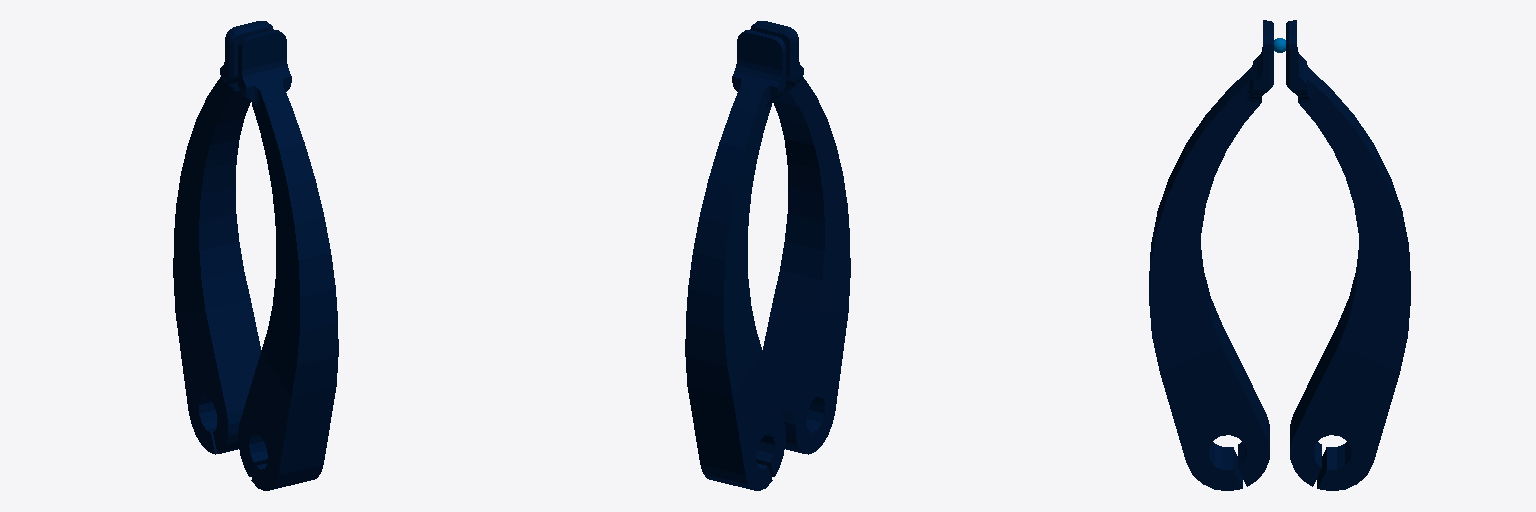
The robot description file, URDF, robot "hdt_michigan":
<?xml version="1.0" ?>
<!-- =================================================================================== -->
<!-- |    This document was autogenerated by xacro from hdt_michigan.xacro             | -->
<!-- |    EDITING THIS FILE BY HAND IS NOT RECOMMENDED                                 | -->
<!-- =================================================================================== -->
<robot name="hdt_michigan">
  <!-- materials -->
  <material name="black">
    <color rgba="0.0 0.0 0.0 1.0"/>
  </material>
  <material name="grey">
    <color rgba="0.23529411764705882 0.23529411764705882 0.23529411764705882 1.0"/>
  </material>
  <material name="orange">
    <color rgba="1.0 0.5490196078431373 0.0 1.0"/>
  </material>
  <material name="maroon">
    <color rgba="0.5019607843137255 0.0 0.0 1.0"/>
  </material>
  <material name="white">
    <color rgba="1.0 1.0 1.0 1.0"/>
  </material>
  <material name="blue">
    <color rgba="0.01568627450980392 0.11764705882352941 0.25882352941176473 1.0"/>
  </material>
  <material name="maize">
    <color rgba="1.0 0.7803921568627451 0.17254901960784313 1.0"/>
  </material>
  <!-- mounting plate -->
  <gazebo reference="hdt_michigan_root">
    <selfCollide>true</selfCollide>
    <kinematic>1</kinematic>
  </gazebo>
  <gazebo reference="drive57">
    <material>Gazebo/FlatBlack</material>
    <selfCollide>true</selfCollide>
    <kinematic>1</kinematic>
  </gazebo>
  <gazebo reference="torso">
    <material>Gazebo/FlatBlack</material>
    <selfCollide>true</selfCollide>
    <kinematic>1</kinematic>
  </gazebo>
  <gazebo reference="drive42">
    <material>Gazebo/FlatBlack</material>
    <selfCollide>true</selfCollide>
    <kinematic>1</kinematic>
  </gazebo>
  <gazebo reference="leftshoulder">
    <material>Gazebo/FlatBlack</material>
    <selfCollide>true</selfCollide>
    <kinematic>1</kinematic>
  </gazebo>
  <gazebo reference="lefttube">
    <material>Gazebo/FlatBlack</material>
    <selfCollide>true</selfCollide>
    <kinematic>1</kinematic>
  </gazebo>
  <gazebo reference="leftforearm">
    <material>Gazebo/FlatBlack</material>
    <selfCollide>true</selfCollide>
    <kinematic>1</kinematic>
  </gazebo>
  <gazebo reference="drive46">
    <material>Gazebo/FlatBlack</material>
    <selfCollide>true</selfCollide>
    <kinematic>1</kinematic>
  </gazebo>
  <gazebo reference="leftwrist">
    <material>Gazebo/FlatBlack</material>
    <selfCollide>true</selfCollide>
    <kinematic>1</kinematic>
  </gazebo>
  <gazebo reference="drive50">
    <material>Gazebo/FlatBlack</material>
    <selfCollide>true</selfCollide>
    <kinematic>1</kinematic>
  </gazebo>
  <gazebo reference="leftgripper2_link">
    <material>Gazebo/FlatBlack</material>
    <selfCollide>true</selfCollide>
    <kinematic>1</kinematic>
    <maxContacts>1</maxContacts>
  </gazebo>
  <gazebo reference="leftgripper_link">
    <material>Gazebo/FlatBlack</material>
    <selfCollide>true</selfCollide>
    <kinematic>1</kinematic>
    <maxContacts>1</maxContacts>
  </gazebo>
  <gazebo reference="drive2">
    <material>Gazebo/Grey</material>
    <selfCollide>true</selfCollide>
    <kinematic>1</kinematic>
  </gazebo>
  <gazebo reference="rightshoulder">
    <material>Gazebo/FlatBlack</material>
    <selfCollide>true</selfCollide>
    <kinematic>1</kinematic>
  </gazebo>
  <gazebo reference="righttube">
    <material>Gazebo/Grey</material>
    <selfCollide>true</selfCollide>
    <kinematic>1</kinematic>
  </gazebo>
  <gazebo reference="rightforearm">
    <material>Gazebo/FlatBlack</material>
    <selfCollide>true</selfCollide>
    <kinematic>1</kinematic>
  </gazebo>
  <gazebo reference="drive6">
    <material>Gazebo/Grey</material>
    <selfCollide>true</selfCollide>
    <kinematic>1</kinematic>
  </gazebo>
  <gazebo reference="rightwrist">
    <material>Gazebo/FlatBlack</material>
    <selfCollide>true</selfCollide>
    <kinematic>1</kinematic>
  </gazebo>
  <gazebo reference="drive10">
    <material>Gazebo/Grey</material>
    <selfCollide>true</selfCollide>
    <kinematic>1</kinematic>
  </gazebo>
  <gazebo reference="rightgripper2_link">
    <material>Gazebo/Grey</material>
    <selfCollide>true</selfCollide>
    <kinematic>1</kinematic>
    <maxContacts>1</maxContacts>
  </gazebo>
  <gazebo reference="rightgripper_link">
    <material>Gazebo/Grey</material>
    <selfCollide>true</selfCollide>
    <kinematic>1</kinematic>
    <maxContacts>1</maxContacts>
  </gazebo>
  <gazebo reference="right_tool_joint">
    <preserveFixedJoint>true</preserveFixedJoint>
  </gazebo>
  <gazebo reference="left_tool_joint">
    <preserveFixedJoint>true</preserveFixedJoint>
  </gazebo>
  <!-- segment 0 -->
  <link name="root"/>
  <joint name="eef_left" type="fixed">
    <origin rpy="0 0 0" xyz="0 0 0"/>
    <parent link="root"/>
    <child link="end_effector_left"/>
  </joint>
  <link name="end_effector_left">
    <collision>
      <origin rpy="0 0 0" xyz="0 0 0"/>
      <geometry>
        <mesh filename="package://hdt_michigan_description/meshes/untitled.dae" scale="1.0 1.0 1.0"/>
      </geometry>
    </collision>
    <visual>
      <origin rpy="0 0 0" xyz="0 0 0"/>
      <geometry>
        <mesh filename="package://hdt_michigan_description/meshes/untitled.dae"/>
      </geometry>
      <material name="maize"/>
    </visual>
    <inertial>
      <origin rpy="-1.5707963267948966 0 0" xyz="-0.02828166 0.00000247 -0.01722827"/>
      <mass value="0.27265869"/>
      <inertia ixx="0.00009278" ixy="0.0" ixz="0.00000608" iyy="0.00010001" iyz="0.0" izz="0.00007523"/>
    </inertial>
  </link>
  <!-- Left Pincers -->
  <joint name="leftgripper" type="revolute">
    <hdt id="50a" inertia="0.075" kmax="150" kmin="75"/>
    <axis xyz="0 0 1"/>
    <limit effort="35.0" lower="-0.1166" upper="1" velocity="0.5"/>
    <origin rpy="1.5707963267948966 -0.42 -1.5707963267948966" xyz="0 0.0135 0.068553"/>
    <parent link="end_effector_left"/>
    <child link="leftgripper_link"/>
    <dynamics damping="0.01" friction="0"/>
  </joint>
  <transmission name="leftgripper_transmissions">
    <type>transmission_interface/SimpleTransmission</type>
    <joint name="leftgripper">
      <hardwareInterface>hardware_interface/PositionJointInterface</hardwareInterface>
    </joint>
    <actuator name="leftgripper_motor">
      <mechanicalReduction>1</mechanicalReduction>
    </actuator>
  </transmission>
  <link name="leftgripper_link">
    <visual>
      <origin rpy="0 0 0" xyz="0 0 0"/>
      <geometry>
        <mesh filename="package://hdt_michigan_description/meshes/PINCER_FINGER.STL"/>
      </geometry>
      <material name="blue"/>
    </visual>
    <inertial>
      <origin rpy="0 0 0" xyz="0.034 0.055 0.007"/>
      <mass value="0.06821764"/>
      <inertia ixx="0.00007499" ixy="0" ixz="0" iyy="0.00002842" iyz="0" izz="0.00010118"/>
    </inertial>
  </link>
  <!-- Left EE 2 -->
  <!-- THIS IS THE SECOND PINCER, NEEDS TO MOVE EQUAL BUT OPPOSITE AS PINCER 1 -->
  <joint name="leftgripper2" type="revolute">
    <hdt id="50b" inertia="0.075" kmax="150" kmin="75"/>
    <axis xyz="0 0 1"/>
    <origin rpy="1.5707963267948966 -0.42 1.5707963267948966" xyz="0 -0.0135 0.068553"/>
    <parent link="end_effector_left"/>
    <child link="leftgripper2_link"/>
    <calibration rising="0.0"/>
    <dynamics damping="0.01" friction="0.01"/>
    <limit effort="35.0" lower="-0.1166" upper="1" velocity="0.5"/>
  </joint>
  <transmission name="leftgripper2_transmissions">
    <type>transmission_interface/SimpleTransmission</type>
    <joint name="leftgripper2">
      <hardwareInterface>hardware_interface/PositionJointInterface</hardwareInterface>
    </joint>
    <actuator name="leftgripper2_motor">
      <mechanicalReduction>1</mechanicalReduction>
    </actuator>
  </transmission>
  <link name="leftgripper2_link">
    <visual>
      <origin rpy="0 0 0" xyz="0 0 0"/>
      <geometry>
        <mesh filename="package://hdt_michigan_description/meshes/PINCER_FINGER.STL"/>
      </geometry>
      <material name="blue"/>
    </visual>
    <inertial>
      <origin rpy="0 0 0" xyz="0.034 0.055 0.007"/>
      <mass value="0.06821764"/>
      <inertia ixx="0.00007499" ixy="0" ixz="0" iyy="0.00002842" iyz="0" izz="0.00010118"/>
    </inertial>
  </link>
  
  <link name="left_tool">
    <visual name="left_tool_visual">
      <origin rpy="0 0 0" xyz="0 0 0"/>
      <geometry>
        <sphere radius="0.002"/>
      </geometry>
    </visual>
    <inertial>
      <origin rpy="0 0 0" xyz="0 0 0"/>
      <mass value="0.001"/>
      <inertia ixx="0" ixy="0" ixz="0" iyy="0" iyz="0" izz="0"/>
    </inertial>
  </link>
  <joint name="left_tool_joint" type="fixed">
    <parent link="end_effector_left"/>
    <child link="left_tool"/>
    <origin rpy="0 0 0" xyz="0.0 0.0 0.181"/>
  </joint>
  

  <gazebo>
    <plugin filename="libgazebo_ros_control.so" name="gazebo_ros_control">
      <robotNamespace>hdt_michigan</robotNamespace>
      <legacyModeNS>false</legacyModeNS>
    </plugin>
  </gazebo>
  <gazebo>
    <plugin filename="libgazebo_ros_moveit_planning_scene.so" name="gazebo_ros_moveit_planning_scene">
      <robotName>hdt_michigan</robotName>
      <robotNamespace>hdt_michigan</robotNamespace>
      <!--  This must be the same as the root frame of the robot you're using -->
      <frameId>hdt_michigan_root</frameId>
      <excludedModels>collision_sphere</excludedModels>
      <scalePrimitivesFactor>1.1</scalePrimitivesFactor>
    </plugin>
  </gazebo>
  <link name="world"/>
  <joint name="world_joint" type="fixed">
    <parent link="world"/>
    <child link="root"/>
    <origin rpy="0.0 0.0 0.0" xyz="0.0 0.0 0.0"/>
  </joint>
</robot>

--- Render facts (derived) ---
The picture shows the robot from 3 angles, left to right: view 1: azimuth 30°, elevation 25°; view 2: azimuth 150°, elevation 25°; view 3: azimuth 270°, elevation 25°; orthographic projection.
Robot: hdt_michigan — 6 links, 5 joints (2 revolute, 3 fixed); root link world; default pose: every joint at zero.
Visible links, largest first — view 1: leftgripper2_link, leftgripper_link; view 2: leftgripper_link, leftgripper2_link; view 3: leftgripper_link, leftgripper2_link.
Link boxes in pixels (x1,y1,x2,y2): leftgripper2_link: (238, 30, 338, 490); leftgripper_link: (173, 21, 273, 454); leftgripper_link: (685, 30, 785, 490); leftgripper2_link: (750, 21, 850, 454); leftgripper_link: (1286, 20, 1410, 490); leftgripper2_link: (1149, 20, 1273, 490).
Size in the robot's own frame: 0.014 by 0.0675 by 0.1284 metres.
Meshes: 2 distinct files referenced, 2 mesh visuals loaded (1 binary STL); not drawn: 1 (reference not matched to a file when rendering).
